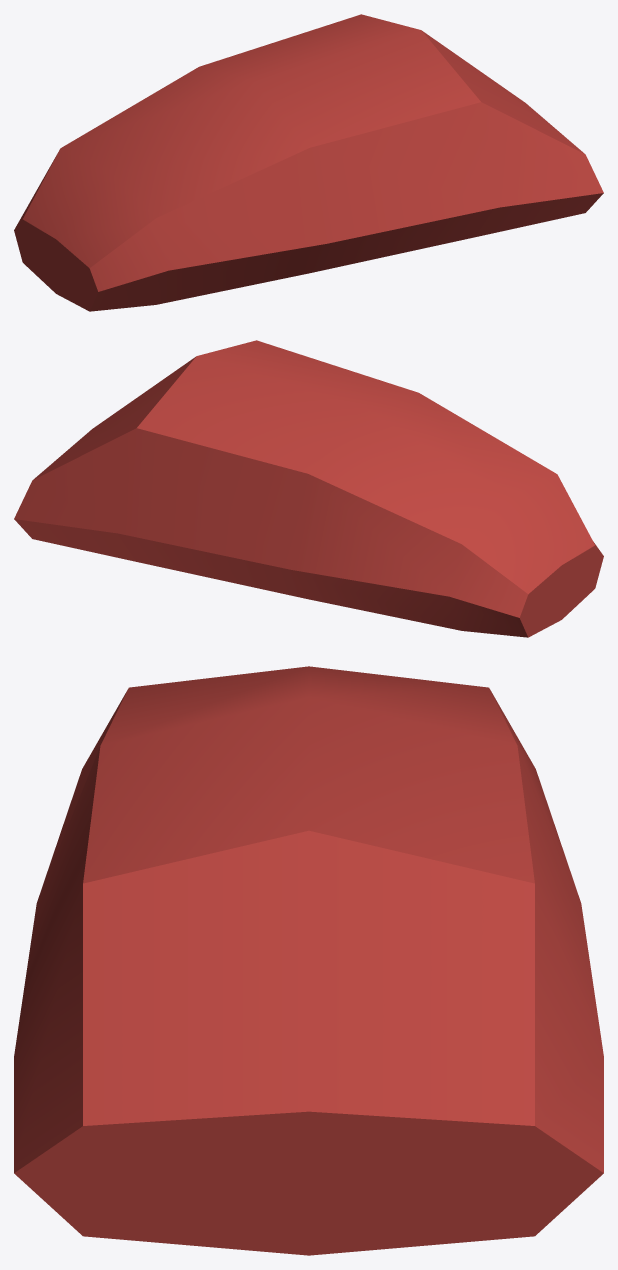
Rendered from hump_lod2.glb.
The picture shows the model from 3 angles, top to bottom: view 1: azimuth 30°, elevation 25°; view 2: azimuth 150°, elevation 25°; view 3: azimuth 270°, elevation 25°; orthographic projection. The views are drawn at different scales.
Visible parts, largest first — view 1: hump_lod2; view 2: hump_lod2; view 3: hump_lod2.
Part boxes in pixels (x1,y1,x2,y2): hump_lod2: (14,14,603,311); hump_lod2: (14,340,603,637); hump_lod2: (14,666,603,1255).
Size of the model in its own units: 0.45 by 0.16 by 0.26.
